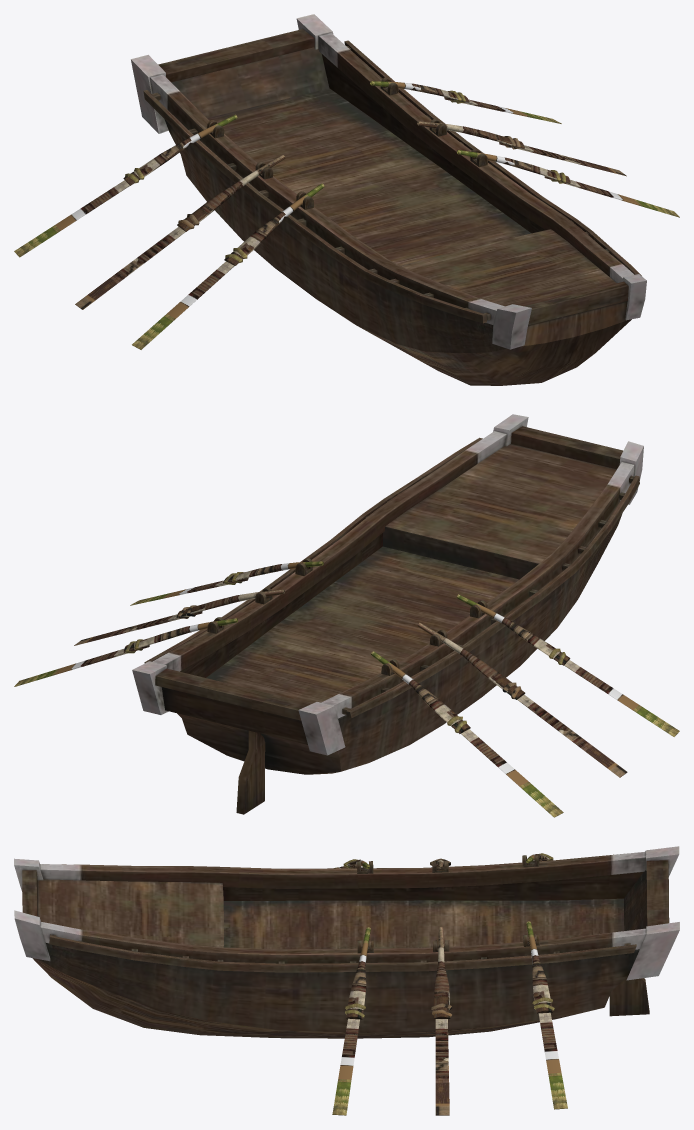
Rendered from 267-junkozosen.glb.
The picture shows the model from 3 angles, top to bottom: view 1: azimuth 30°, elevation 25°; view 2: azimuth 150°, elevation 25°; view 3: azimuth 270°, elevation 25°; orthographic projection. The views are drawn at different scales.
Size of the model in its own units: 5.93 by 1.55 by 6.73.
2 materials, 2 textured.
